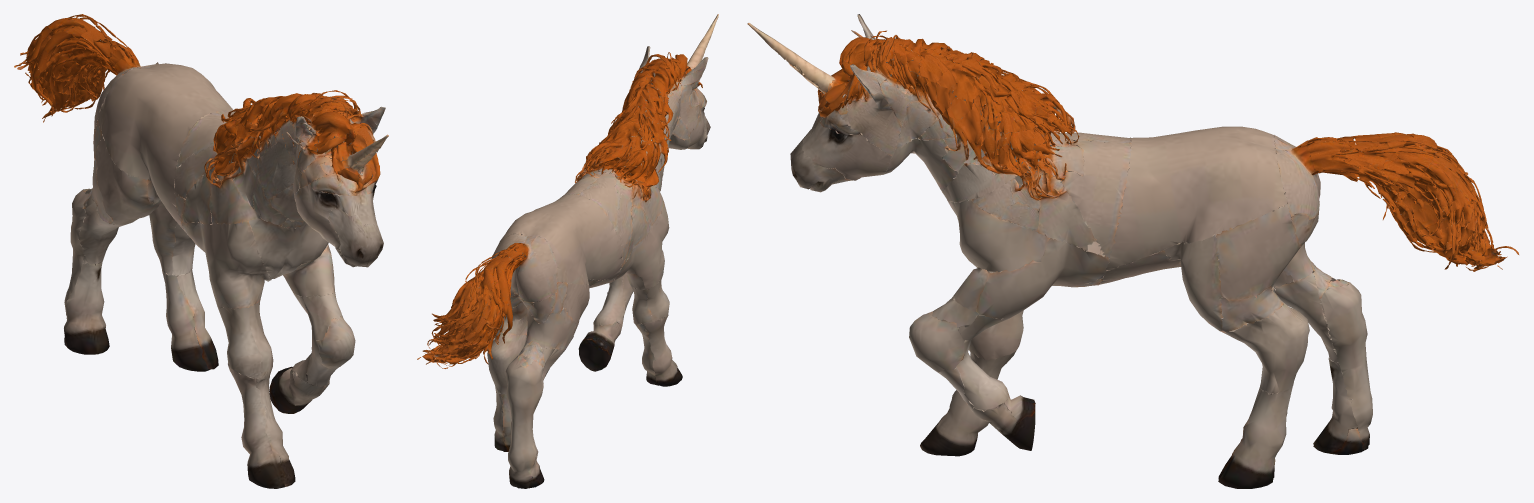
Rendered from uni-cinematic.glb.
The picture shows the model from 3 angles, left to right: view 1: azimuth 30°, elevation 25°; view 2: azimuth 150°, elevation 25°; view 3: azimuth 270°, elevation 25°; orthographic projection. The views are drawn at different scales.
Visible parts, largest first — view 1: asset; view 2: asset; view 3: asset.
Part boxes in pixels (box(x1,y1,x2,y2)): asset: box(14, 14, 388, 488); asset: box(417, 14, 718, 488); asset: box(747, 14, 1518, 488).
Size of the model in its own units: 0.3511 by 1.18 by 1.9.
1 material, 1 textured.
